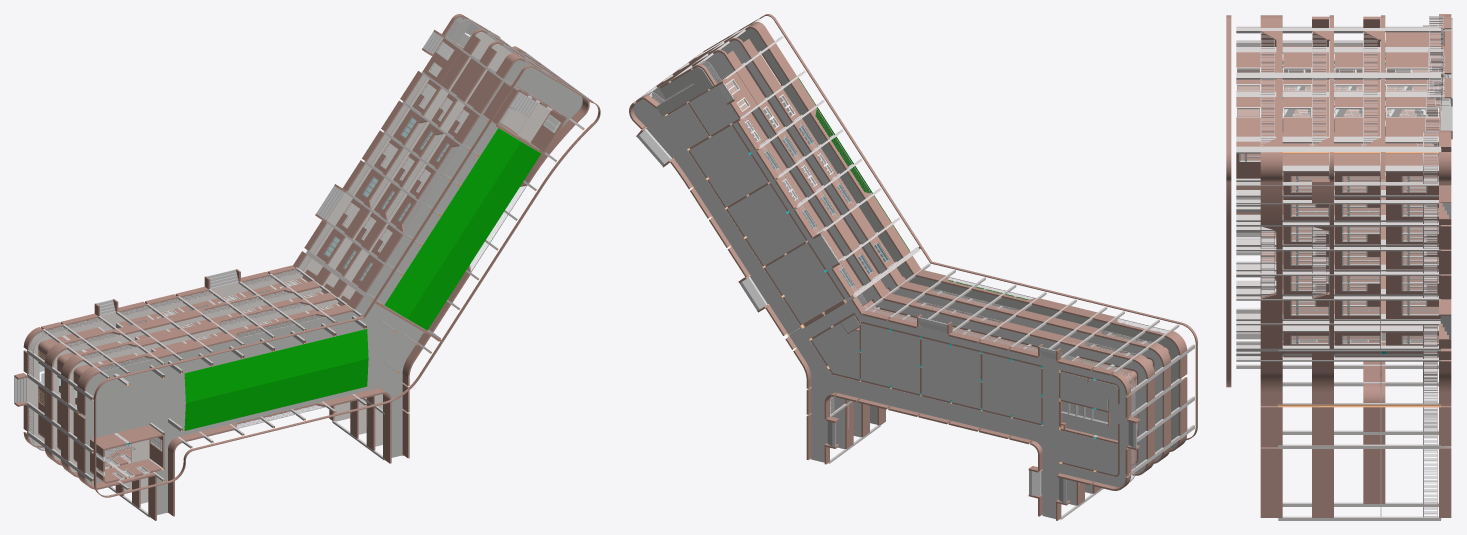
Rendered from THHX-K1.glb.
3 views of the same model, side by side, from view 1: azimuth 30°, elevation 25°; view 2: azimuth 150°, elevation 25°; view 3: azimuth 270°, elevation 25° (orthographic). The views are drawn at different scales.
Visible parts, largest first — view 1: IfcSlab:1Nt1aSWtTDyvSq3QlGoiEx:0, IfcSlab:1Nt1aSWtTDyvSq3QlGoiPp:0, IfcSlab:3GoRs1ivf6mh7fqZ88DgJK:0, IfcSlab:3GoRs1ivf6mh7fqZ88Dgf7:0, IfcSlab:3GoRs1ivf6mh7fqZC8Dgf7:0, IfcSlab:3GoRs1ivf6mh7fqZC8DgJK:0, IfcSlab:21sg$4aEP1Qh5xFakbBBxj:0, IfcSlab:3z7JtsNuD2jes_bVsoCF_A:0, IfcSlab:3z7JtsNuD2jes_bVsoC86K:0, IfcSlab:3z7JtsNuD2jes_bVsoCFz2:0, IfcSlab:3z7JtsNuD2jes_bVsoC826:0, IfcSlab:21sg$4aEP1Qh5xFakbBBwa:0 (+2 smaller); view 2: IfcSlab:21sg$4aEP1Qh5xFakbBBxj:1, IfcSlab:21sg$4aEP1Qh5xFakbBAG_:1, IfcSlab:3z7JtsNuD2jes_bVsoC86K:1, IfcSlab:21sg$4aEP1Qh5xFakbBNus:1, IfcSlab:21sg$4aEP1Qh5xFakbBNzV:1, IfcSlab:21sg$4aEP1Qh5xFakbBNxe:1, IfcSlab:21sg$4aEP1Qh5xFakbBNwk:1, IfcSlab:21sg$4aEP1Qh5xFakbBNaW:1, IfcSlab:21sg$4aEP1Qh5xFakbBNuc:1, IfcSlab:3z7JtsNuD2jes_bVsoCF_A:1, IfcSlab:1Nt1aSWtTDyvSq3QlGoiEx:0, IfcSlab:1Nt1aSWtTDyvSq3QlGoiPp:0 (+11 smaller); view 3: IfcWall:21sg$4aEP1Qh5xFakbBJ4j:0, IfcWall:3wQuSnXqb1b8Aluc3YCFA_:0, IfcWall:21sg$4aEP1Qh5xFakbBGFI:0, IfcWall:21sg$4aEP1Qh5xFakbBNB0:0, IfcWall:3wQuSnXqb1b8Aluc3YCE$R:0, IfcWall:1ZuR_VcRT6G9lCoF3c$SIT:0, IfcWall:1ZuR_VcRT6G9lCoF3c$UVp:0, IfcWall:21sg$4aEP1Qh5xFakbBGFL:0, IfcWall:21sg$4aEP1Qh5xFakbBNB3:0, IfcRailing:0M3MpqZO5COOMEpfTuS3pC:0, IfcWall:21sg$4aEP1Qh5xFakbBJPt:0, IfcWall:1ZuR_VcRT6G9lCoF3c$UHj:0 (+154 smaller).
Part boxes in pixels (<box>): IfcSlab:1Nt1aSWtTDyvSq3QlGoiEx:0: <box>80,297,423,514</box>; IfcSlab:1Nt1aSWtTDyvSq3QlGoiPp:0: <box>366,60,582,304</box>; IfcSlab:3GoRs1ivf6mh7fqZ88DgJK:0: <box>384,128,520,318</box>; IfcSlab:3GoRs1ivf6mh7fqZ88Dgf7:0: <box>184,329,368,402</box>; IfcSlab:3GoRs1ivf6mh7fqZC8Dgf7:0: <box>184,358,368,430</box>; IfcSlab:3GoRs1ivf6mh7fqZC8DgJK:0: <box>407,142,541,330</box>; IfcSlab:21sg$4aEP1Qh5xFakbBBxj:0: <box>27,255,350,445</box>; IfcSlab:3z7JtsNuD2jes_bVsoCF_A:0: <box>69,284,382,503</box>; IfcSlab:3z7JtsNuD2jes_bVsoC86K:0: <box>53,272,366,491</box>; IfcSlab:3z7JtsNuD2jes_bVsoCFz2:0: <box>344,44,527,281</box>; IfcSlab:3z7JtsNuD2jes_bVsoC826:0: <box>328,32,495,269</box>; IfcSlab:21sg$4aEP1Qh5xFakbBBwa:0: <box>309,74,429,255</box>; IfcSlab:21sg$4aEP1Qh5xFakbBBxj:1: <box>789,296,1128,518</box>; IfcSlab:21sg$4aEP1Qh5xFakbBAG_:1: <box>633,99,801,334</box>; IfcSlab:3z7JtsNuD2jes_bVsoC86K:1: <box>830,285,1146,505</box>; IfcSlab:21sg$4aEP1Qh5xFakbBNus:1: <box>921,338,980,408</box>; IfcSlab:21sg$4aEP1Qh5xFakbBNzV:1: <box>982,352,1041,423</box>; IfcSlab:21sg$4aEP1Qh5xFakbBNxe:1: <box>727,184,805,265</box>; IfcSlab:21sg$4aEP1Qh5xFakbBNwk:1: <box>765,242,843,324</box>; IfcSlab:21sg$4aEP1Qh5xFakbBNaW:1: <box>689,125,768,206</box>; IfcSlab:21sg$4aEP1Qh5xFakbBNuc:1: <box>861,323,920,394</box>; IfcSlab:3z7JtsNuD2jes_bVsoCF_A:1: <box>853,273,1162,493</box>; IfcSlab:1Nt1aSWtTDyvSq3QlGoiEx:0: <box>870,262,1178,449</box>; IfcSlab:1Nt1aSWtTDyvSq3QlGoiPp:0: <box>736,28,901,261</box>; IfcWall:21sg$4aEP1Qh5xFakbBJ4j:0: <box>1386,97,1440,136</box>; IfcWall:3wQuSnXqb1b8Aluc3YCFA_:0: <box>1260,447,1282,517</box>; IfcWall:21sg$4aEP1Qh5xFakbBGFI:0: <box>1334,97,1380,136</box>; IfcWall:21sg$4aEP1Qh5xFakbBNB0:0: <box>1283,97,1328,136</box>; IfcWall:3wQuSnXqb1b8Aluc3YCE$R:0: <box>1312,449,1333,517</box>; IfcWall:1ZuR_VcRT6G9lCoF3c$SIT:0: <box>1363,435,1385,503</box>; IfcWall:1ZuR_VcRT6G9lCoF3c$UVp:0: <box>1236,97,1276,136</box>; IfcWall:21sg$4aEP1Qh5xFakbBGFL:0: <box>1334,52,1380,91</box>; IfcWall:21sg$4aEP1Qh5xFakbBNB3:0: <box>1283,52,1328,91</box>; IfcRailing:0M3MpqZO5COOMEpfTuS3pC:0: <box>1425,49,1450,131</box>; IfcWall:21sg$4aEP1Qh5xFakbBJPt:0: <box>1386,52,1440,91</box>; IfcWall:1ZuR_VcRT6G9lCoF3c$UHj:0: <box>1236,52,1276,91</box>.
Bounding box in the file's own units: 66.01 × 45.48 × 15.87.
